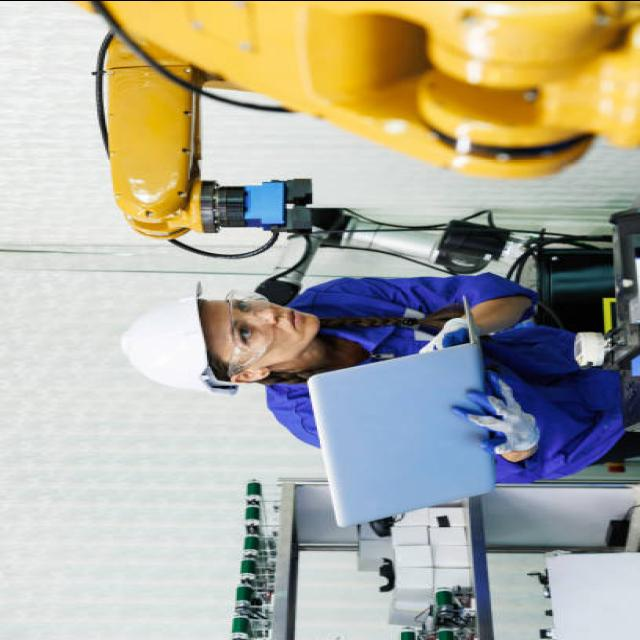Robotic-arm: (98, 0, 640, 267)
